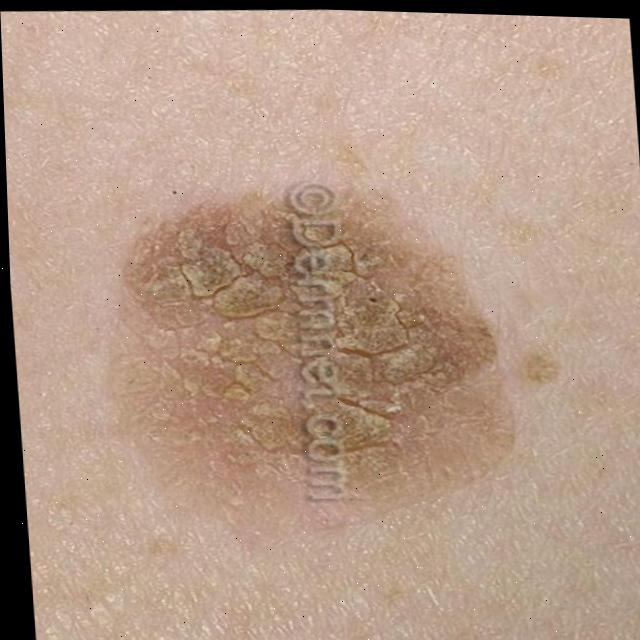Eczema: (207, 228, 467, 484)
